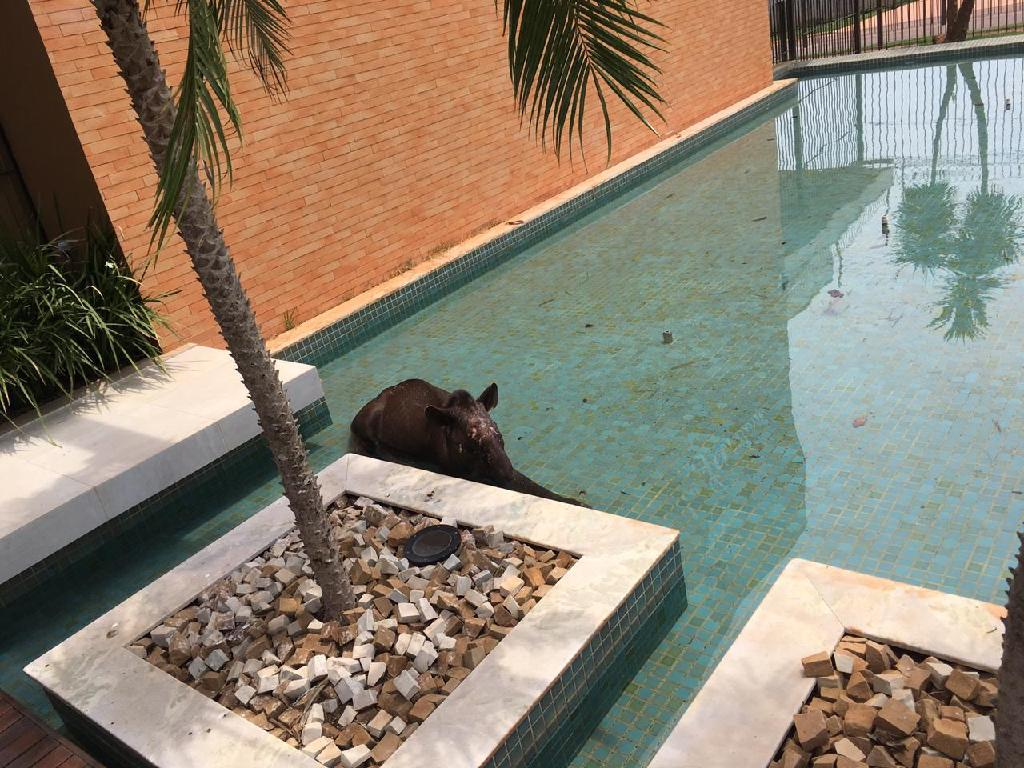Anta: (338, 364, 604, 504)
